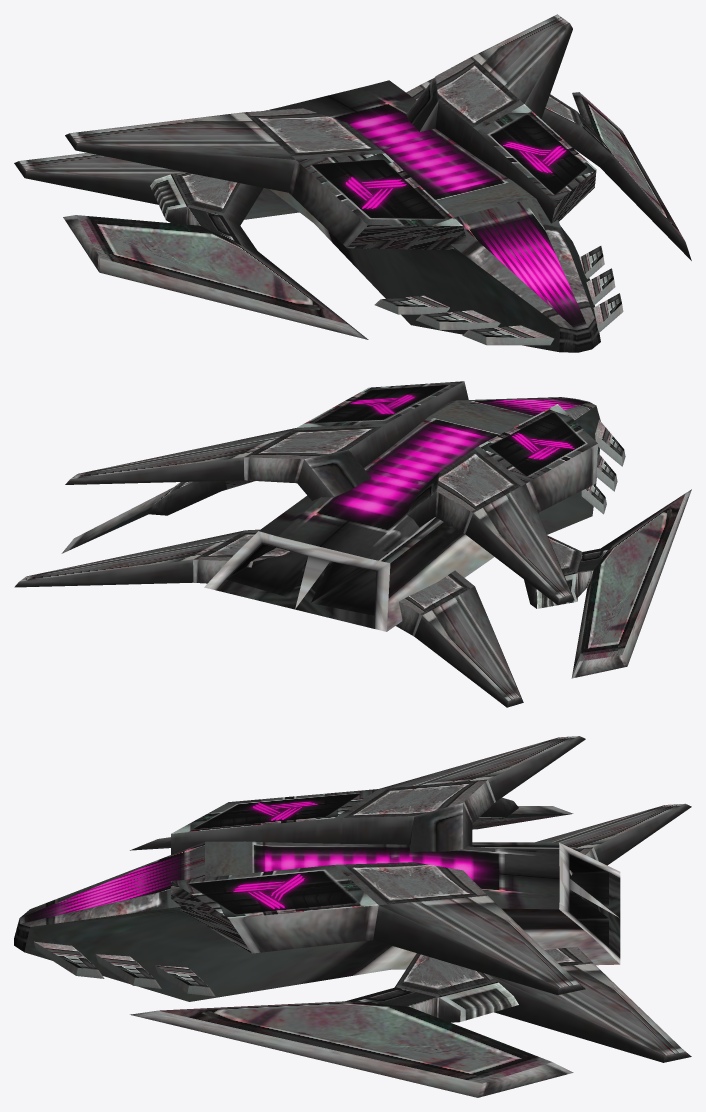
File: Annhilator37.fbx
The picture shows the model from 3 angles, top to bottom: view 1: azimuth 30°, elevation 25°; view 2: azimuth 150°, elevation 25°; view 3: azimuth 270°, elevation 25°; orthographic projection. The views are drawn at different scales.
Visible parts, largest first — view 1: polySurface57; view 2: polySurface57; view 3: polySurface57.
Part boxes in pixels (x1,y1,x2,y2): polySurface57: (14,14,691,352); polySurface57: (14,381,691,707); polySurface57: (14,736,691,1097).
Bounding box in the file's own units: 39.95 × 8.76 × 42.59.
